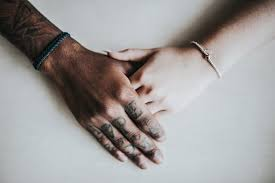hand: (50, 43, 153, 169), (106, 37, 234, 112)
